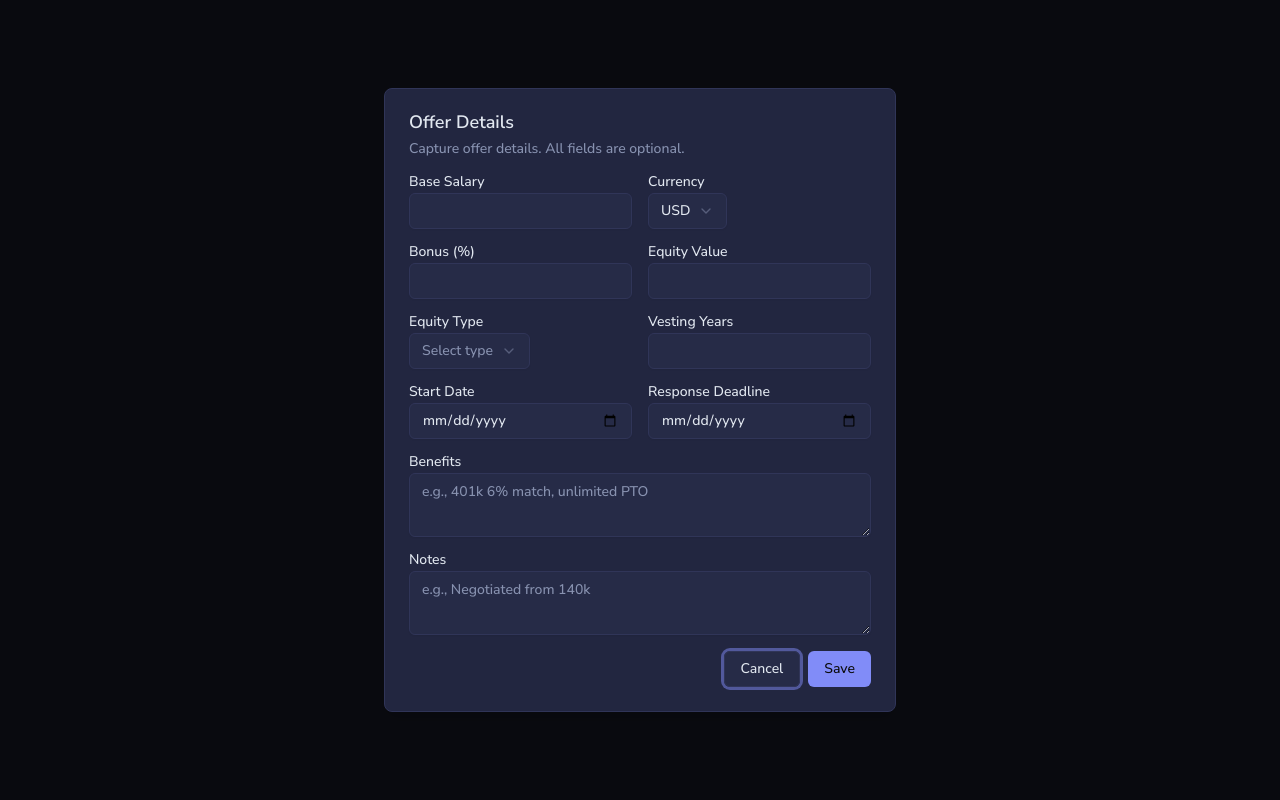
OfferDetailsDialog › rendering › renders equity type select with RSU and Options
Click the dropdown with test id "equity-type-select" at (470, 351), box top-left (409, 333), bottom-right (530, 369)
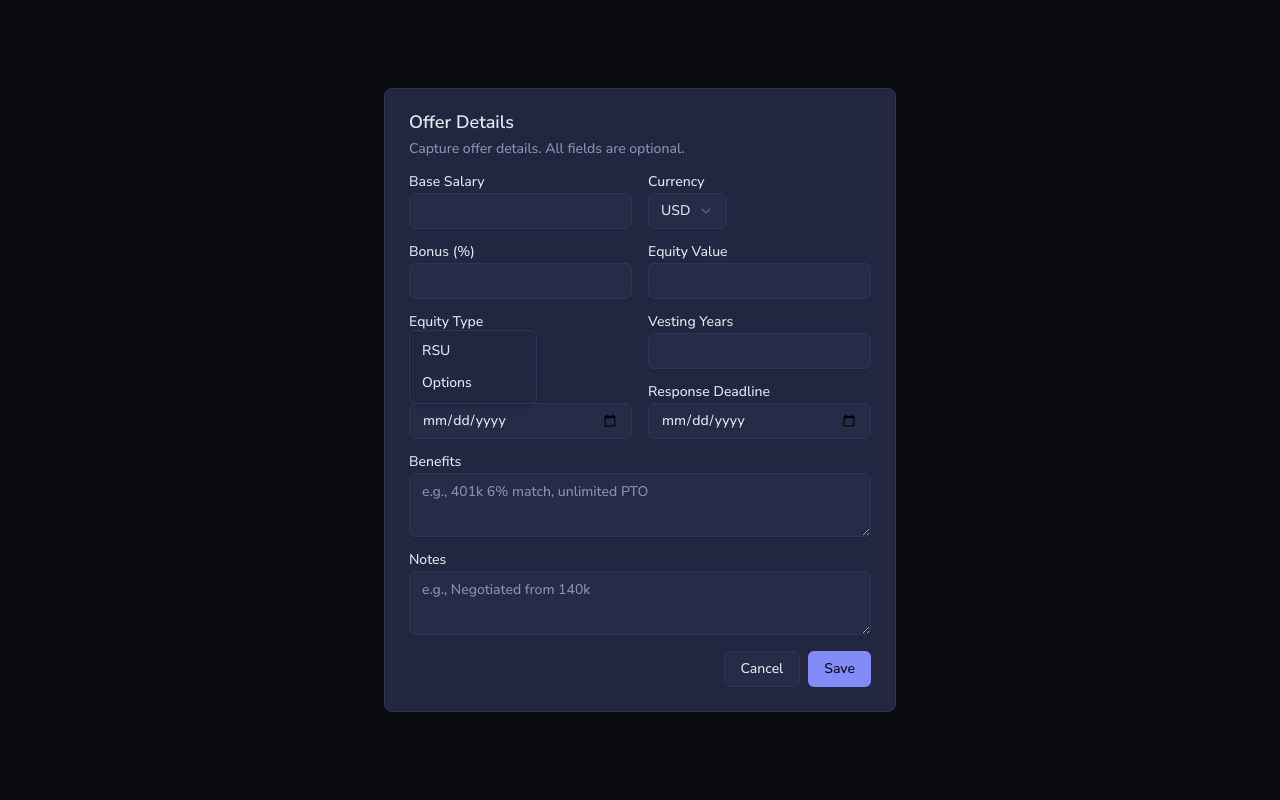
Check: the option "RSU" is shown, box top-left (414, 335), bottom-right (532, 367)
Check: the option "Options" is shown, box top-left (422, 373), bottom-right (472, 392)
